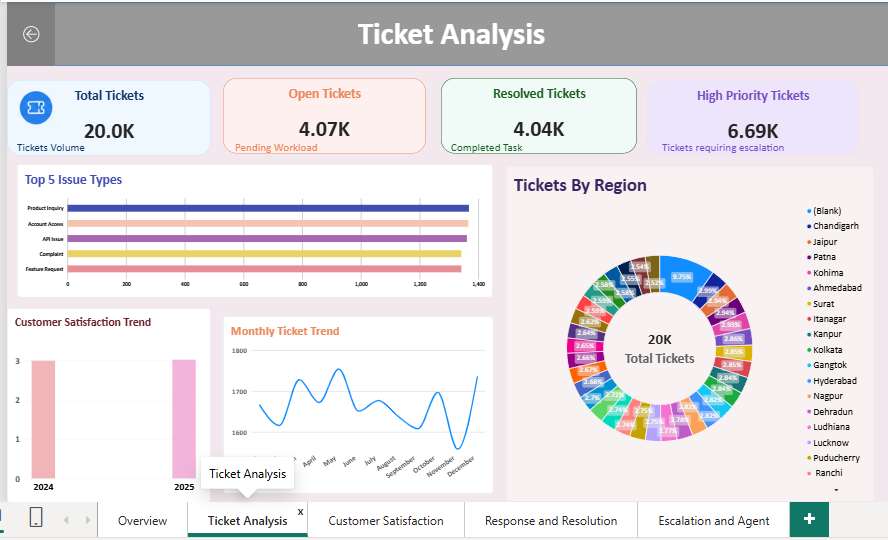

The page's visual inventory and layout, read from the dashboard file:
{"tool":"powerbi","page":{"name":"Ticket Analysis","canvas":[1920,1080],"ordinal":1},"visuals":[{"type":"lineChart","title":"Monthly Ticket Trend","fields":{"Category":["customer_support_dataset.CreatedDate.Variation.Date Hierarchy.Month"],"Y":["customer_support_dataset.Total Tickets"]},"box":[467.5,677.5,583.7,383.7],"z":0},{"type":"donutChart","title":"Tickets By Region","fields":{"Category":["customer_support_dataset.Region"],"Y":["customer_support_dataset.Total Tickets"]},"box":[1077.5,355,795,725],"z":1000},{"type":"columnChart","title":"Customer Satisfaction Trend","fields":{"Category":["customer_support_dataset.CreatedDate.Variation.Date Hierarchy.Year","customer_support_dataset.CreatedDate.Variation.Date Hierarchy.Month"],"Y":["customer_support_dataset.AvgSatisfaction"]},"box":[0,660,440,420],"z":2000},{"type":"shape","box":[0,0,1920,137.5],"z":3000},{"type":"card","title":"Total Tickets","fields":{"Values":["customer_support_dataset.Total Tickets"]},"box":[0,167.5,440,162.5],"z":4000},{"type":"textbox","box":[22.5,297.5,500,32.5],"z":5000},{"type":"card","title":"Open Tickets","fields":{"Values":["customer_support_dataset.Open Tickets"]},"box":[467.5,165,437.5,162.5],"z":6000},{"type":"textbox","box":[492.5,297.5,857.5,57.5],"z":7000},{"type":"card","title":"Resolved Tickets","fields":{"Values":["customer_support_dataset.Resolved Tickets"]},"box":[937.5,165,422.5,162.5],"z":8000},{"type":"card","title":"High Priority Tickets","fields":{"Values":["customer_support_dataset.High Priority Tickets"]},"box":[1382.5,167.5,457,163],"z":9000},{"type":"textbox","box":[1415,297.5,425,115],"z":10000},{"type":"textbox","box":[960,297.5,337.5,30],"z":11000},{"type":"clusteredBarChart","title":"Top 5 Issue Types","fields":{"Category":["customer_support_dataset.IssueType"],"Y":["Count(customer_support_dataset.TicketID)"]},"box":[22.5,350,1027.5,287.5],"z":12000},{"type":"image","box":[22.5,185,82.2,91.1],"z":13000},{"type":"actionButton","box":[0,0,104,138],"z":13001}]}

Visuals, with their boxes on the page's 1920x1080 design canvas (x1, y1, x2, y2). These are canvas units, not pixel positions in the 888x540 screenshot, which may show the page scaled, cropped or inside an application window:
"Monthly Ticket Trend" lineChart: {"x1": 468, "y1": 678, "x2": 1051, "y2": 1061}
"Tickets By Region" donutChart: {"x1": 1078, "y1": 355, "x2": 1872, "y2": 1080}
"Customer Satisfaction Trend" columnChart: {"x1": 0, "y1": 660, "x2": 440, "y2": 1080}
shape: {"x1": 0, "y1": 0, "x2": 1920, "y2": 138}
"Total Tickets" card: {"x1": 0, "y1": 168, "x2": 440, "y2": 330}
textbox: {"x1": 22, "y1": 298, "x2": 522, "y2": 330}
"Open Tickets" card: {"x1": 468, "y1": 165, "x2": 905, "y2": 328}
textbox: {"x1": 492, "y1": 298, "x2": 1350, "y2": 355}
"Resolved Tickets" card: {"x1": 938, "y1": 165, "x2": 1360, "y2": 328}
"High Priority Tickets" card: {"x1": 1382, "y1": 168, "x2": 1840, "y2": 330}
textbox: {"x1": 1415, "y1": 298, "x2": 1840, "y2": 412}
textbox: {"x1": 960, "y1": 298, "x2": 1298, "y2": 328}
"Top 5 Issue Types" clusteredBarChart: {"x1": 22, "y1": 350, "x2": 1050, "y2": 638}
image: {"x1": 22, "y1": 185, "x2": 105, "y2": 276}
actionButton: {"x1": 0, "y1": 0, "x2": 104, "y2": 138}
